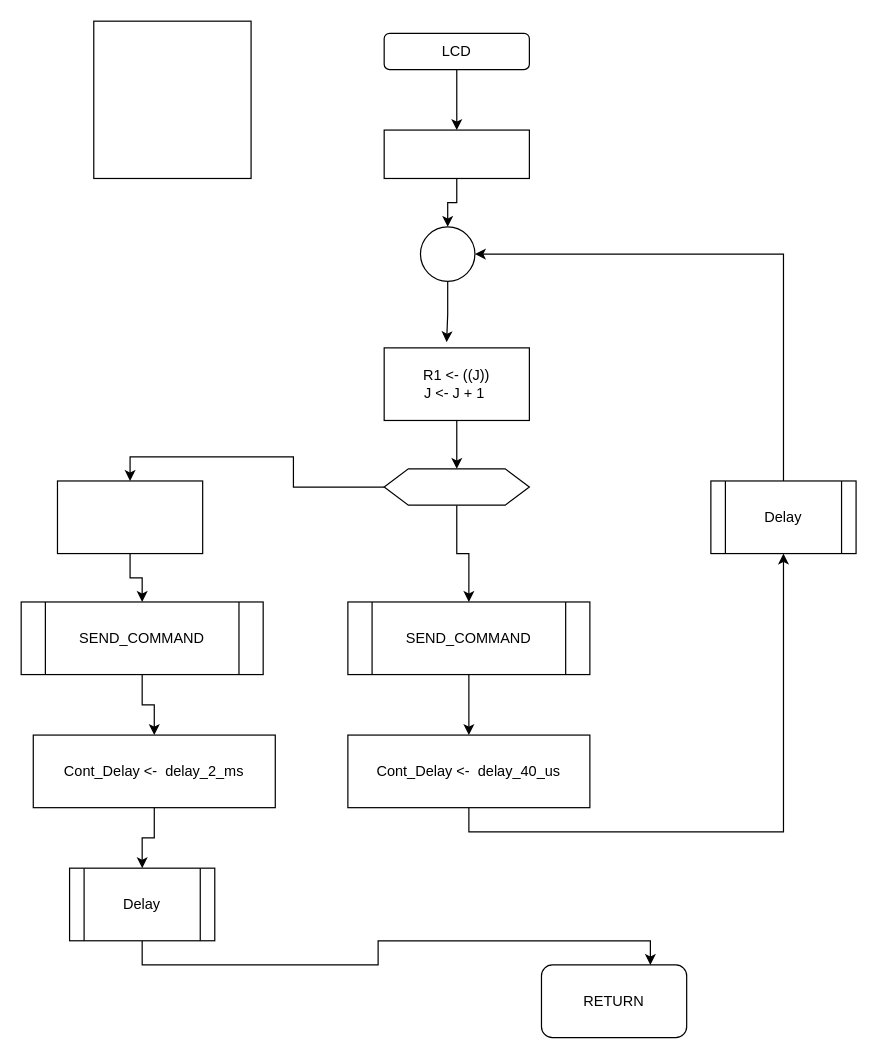
The diagram is 877 pixels wide and 1059 high, and some of its shapes have lost their labels. Here are the shapes that lost their labels. From the top down, the centre of each, then its label:
[172,99]: C - carry K. - Y J - X R1 - A R2 - B RR1 - D
[456,153]: J <- iniDisp
[456,486]: R1 = i_n_element
[129,517]: R1 <- (Clean_LCD)
